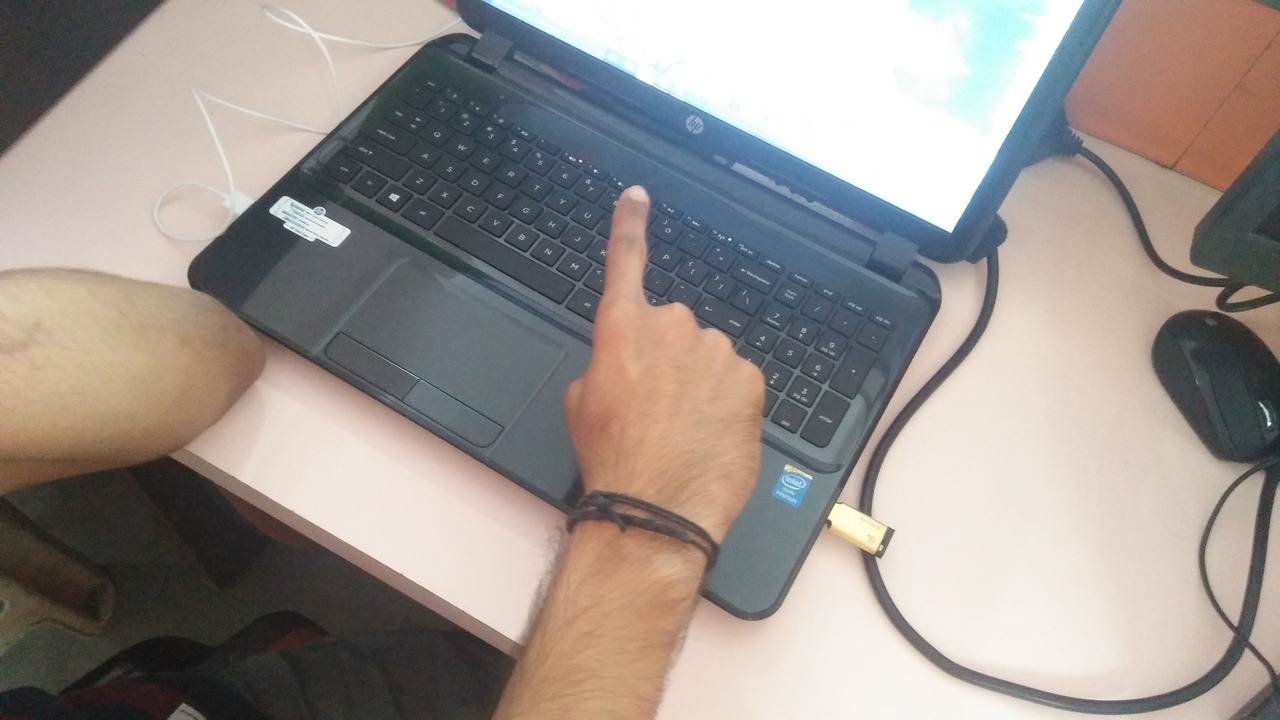fingertip: (606, 172, 658, 226)
